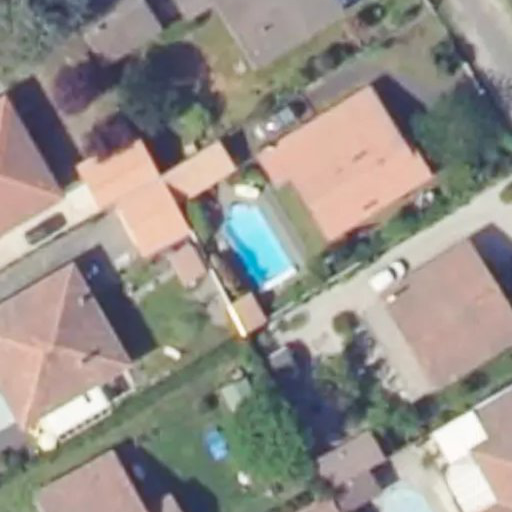pool: (216, 208, 302, 286)
